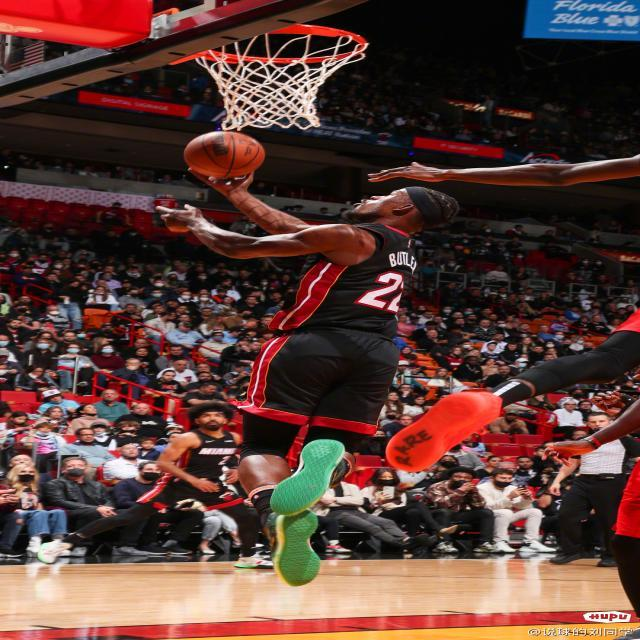rim: (178, 134, 270, 178)
